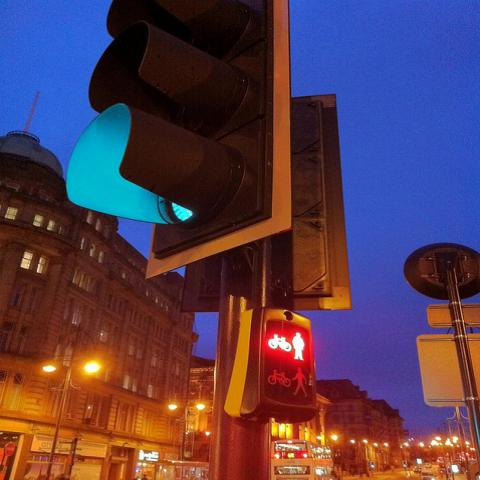car: (413, 466, 421, 473), (423, 476, 435, 480), (424, 463, 432, 468)
